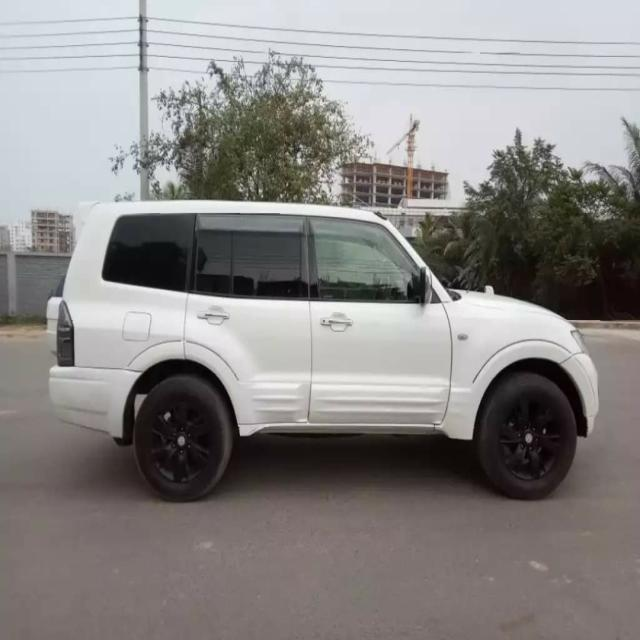white: (44, 201, 597, 511)
